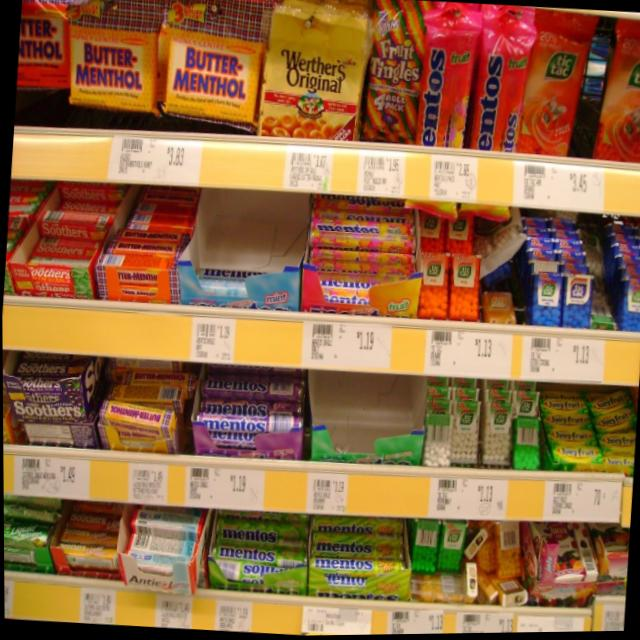q265: (159, 5, 265, 135), (64, 6, 161, 117)
